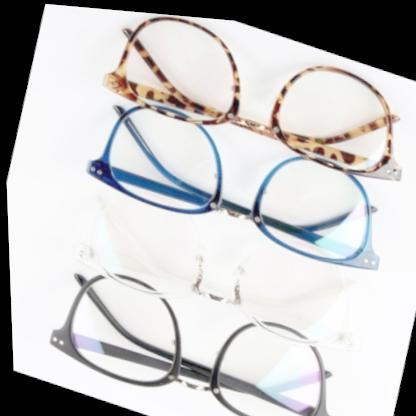Spectacles: (81, 83, 401, 277), (63, 173, 379, 362), (95, 6, 415, 191), (37, 250, 357, 415)
